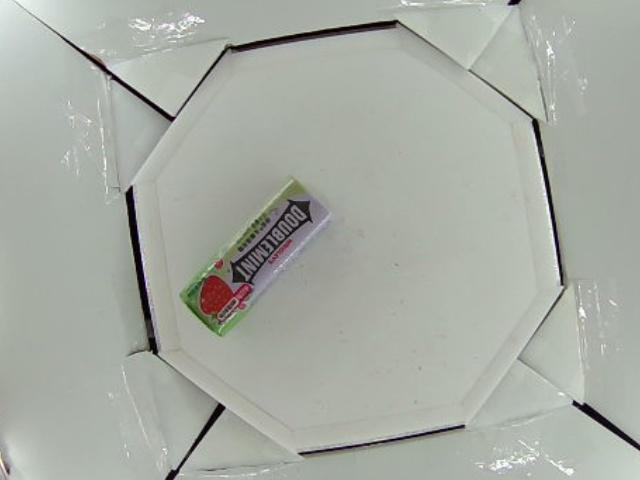Bottle: (180, 174, 332, 341)
